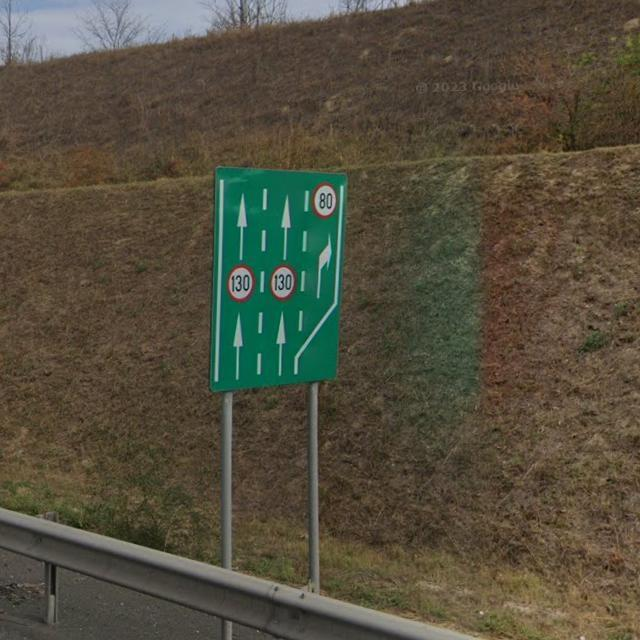forb_speed_over_80: (312, 183, 337, 220)
